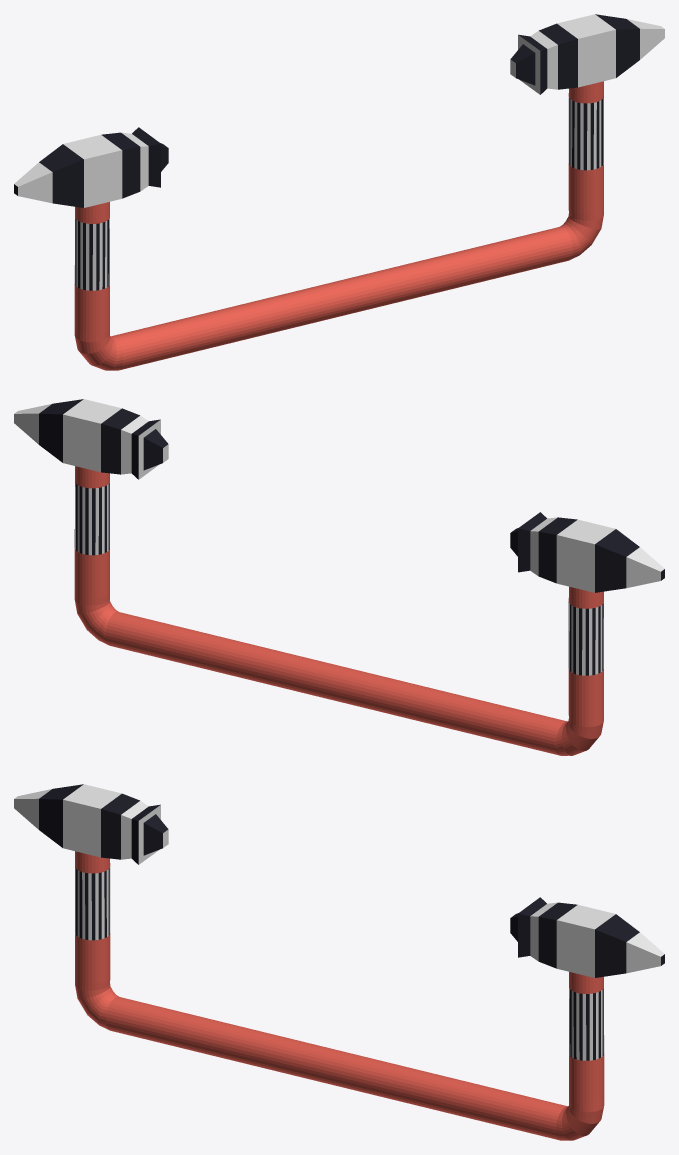
The model's file is finish.fbx.
3 views of the same model, one above another, from view 1: azimuth 30°, elevation 25°; view 2: azimuth 150°, elevation 25°; view 3: azimuth 330°, elevation 25° (orthographic).
Visible parts, largest first — view 1: Cylinder; view 2: Cylinder; view 3: Cylinder.
Part boxes in pixels (x1=…): Cylinder: x1=14, y1=14, x2=664, y2=370; Cylinder: x1=14, y1=399, x2=664, y2=755; Cylinder: x1=14, y1=784, x2=664, y2=1140.
Size of the model in its own units: 1156 by 389 by 69.27.
